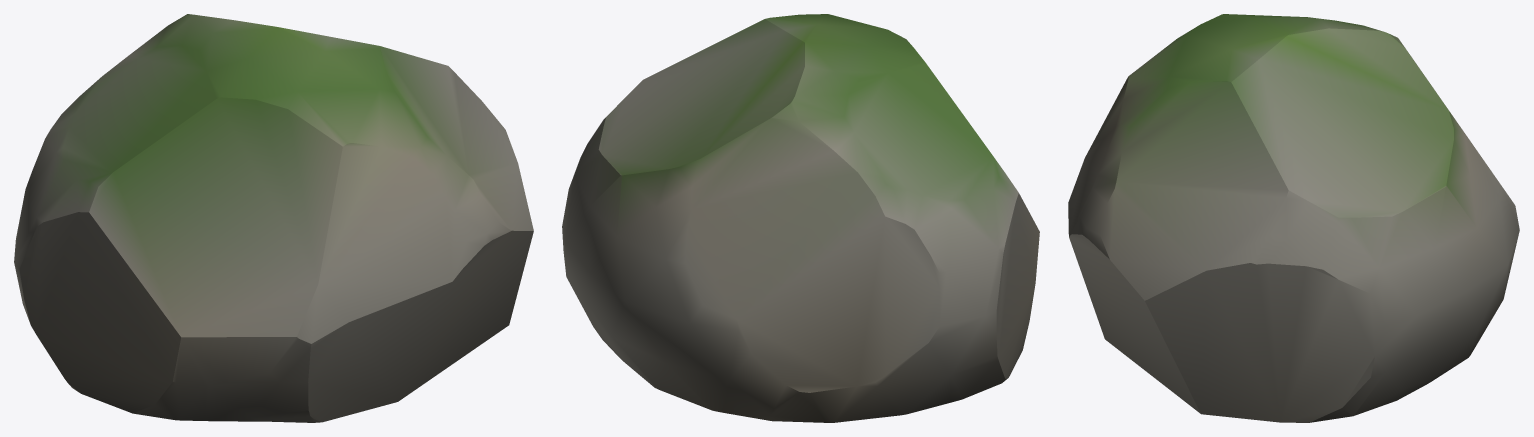
Rendered from rock_a.glb.
3 renders of one model, left to right at view 1: azimuth 30°, elevation 25°; view 2: azimuth 150°, elevation 25°; view 3: azimuth 270°, elevation 25°, orthographic. The views are drawn at different scales.
Parts seen in each view (by area): view 1: rock_a; view 2: rock_a; view 3: rock_a.
Part boxes in pixels (bbox=[...]): rock_a: bbox=[14, 14, 533, 422]; rock_a: bbox=[562, 14, 1039, 422]; rock_a: bbox=[1068, 14, 1519, 422].
Size of the model in its own units: 1.65 by 1.11 by 1.55.
